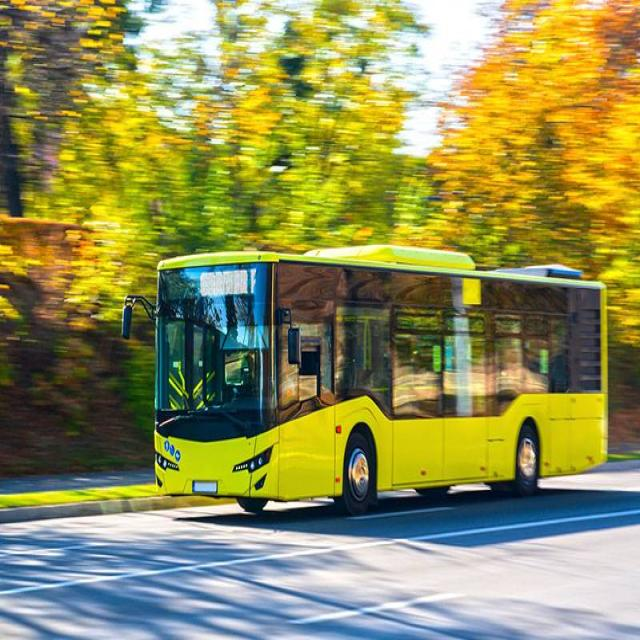Bus: (139, 246, 610, 515)
